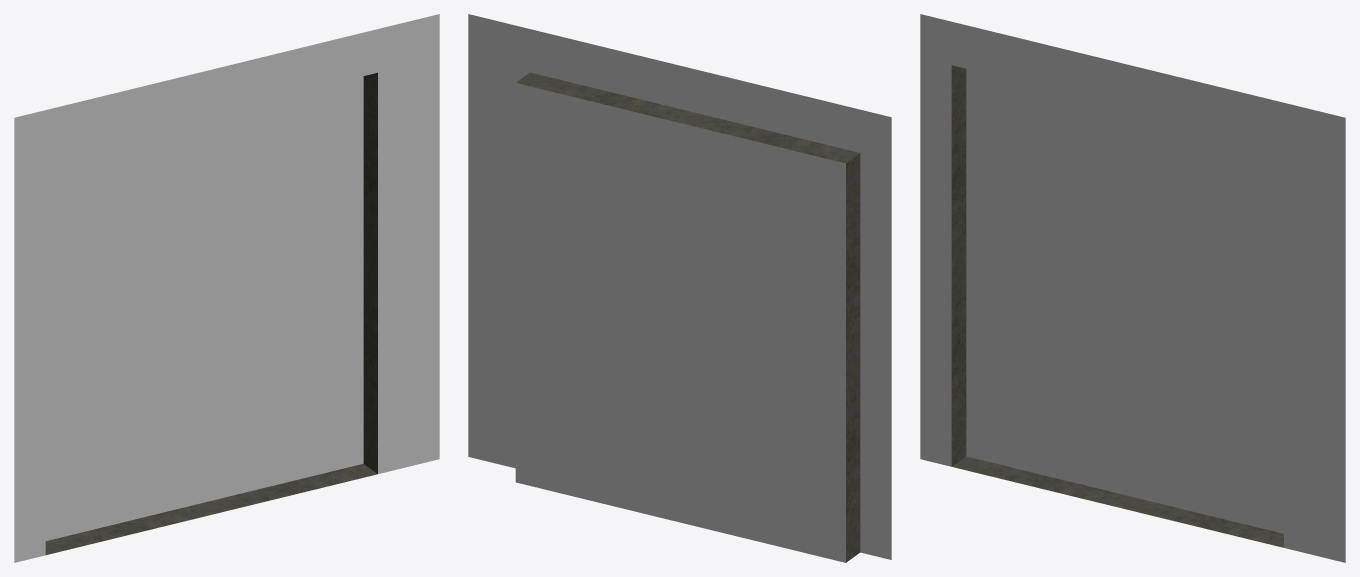
Rendered from CT_door_08.fbx.
3 renders of one model, left to right at view 1: azimuth 30°, elevation 25°; view 2: azimuth 150°, elevation 25°; view 3: azimuth 330°, elevation 25°, orthographic.
Visible parts, largest first — view 1: CT_door_08; view 2: CT_door_08; view 3: CT_door_08.
Part boxes in pixels (<box>): CT_door_08: <box>14,14,439,562</box>; CT_door_08: <box>468,14,891,562</box>; CT_door_08: <box>920,14,1345,562</box>.
Size of the model in its own units: 256 by 256 by 15.
